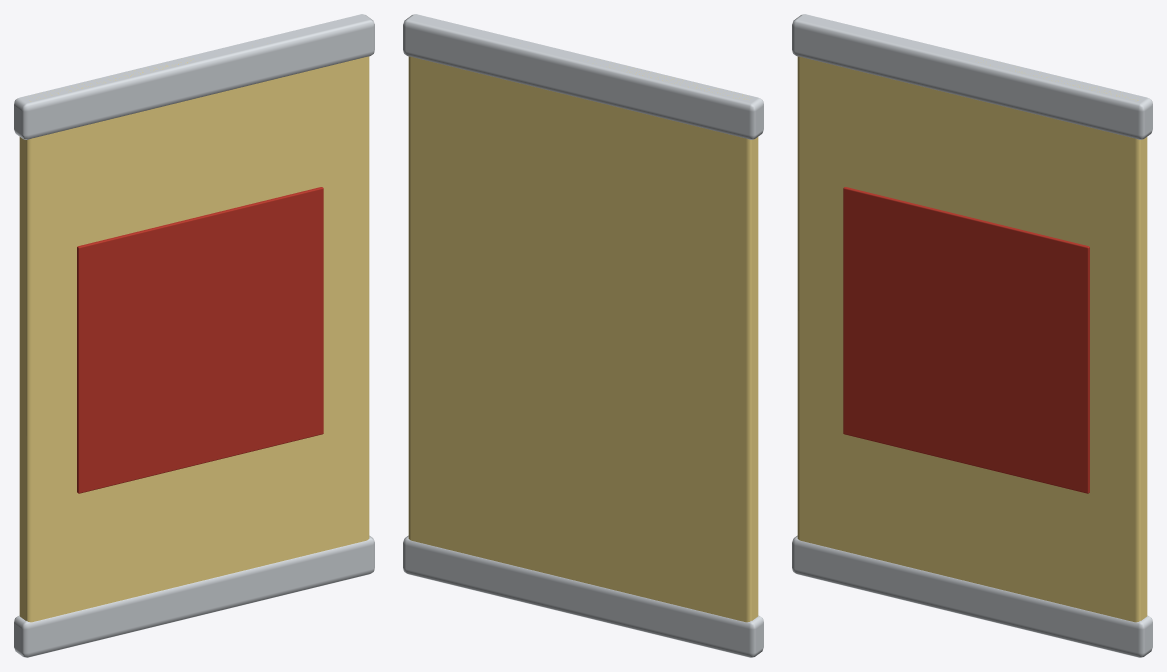
The model's file is wp-sachet-de-levure.glb.
The picture shows the model from 3 angles, left to right: view 1: azimuth 30°, elevation 25°; view 2: azimuth 150°, elevation 25°; view 3: azimuth 330°, elevation 25°; orthographic projection.
Parts seen in each view (by area): view 1: wp-sachet-de-levure; view 2: wp-sachet-de-levure; view 3: wp-sachet-de-levure.
Boxes of the visible parts, <box> form: wp-sachet-de-levure: <box>14,14,374,657</box>; wp-sachet-de-levure: <box>403,14,763,657</box>; wp-sachet-de-levure: <box>792,14,1152,657</box>.
Bounding box in the file's own units: 0.08 × 0.12 × 0.005.
